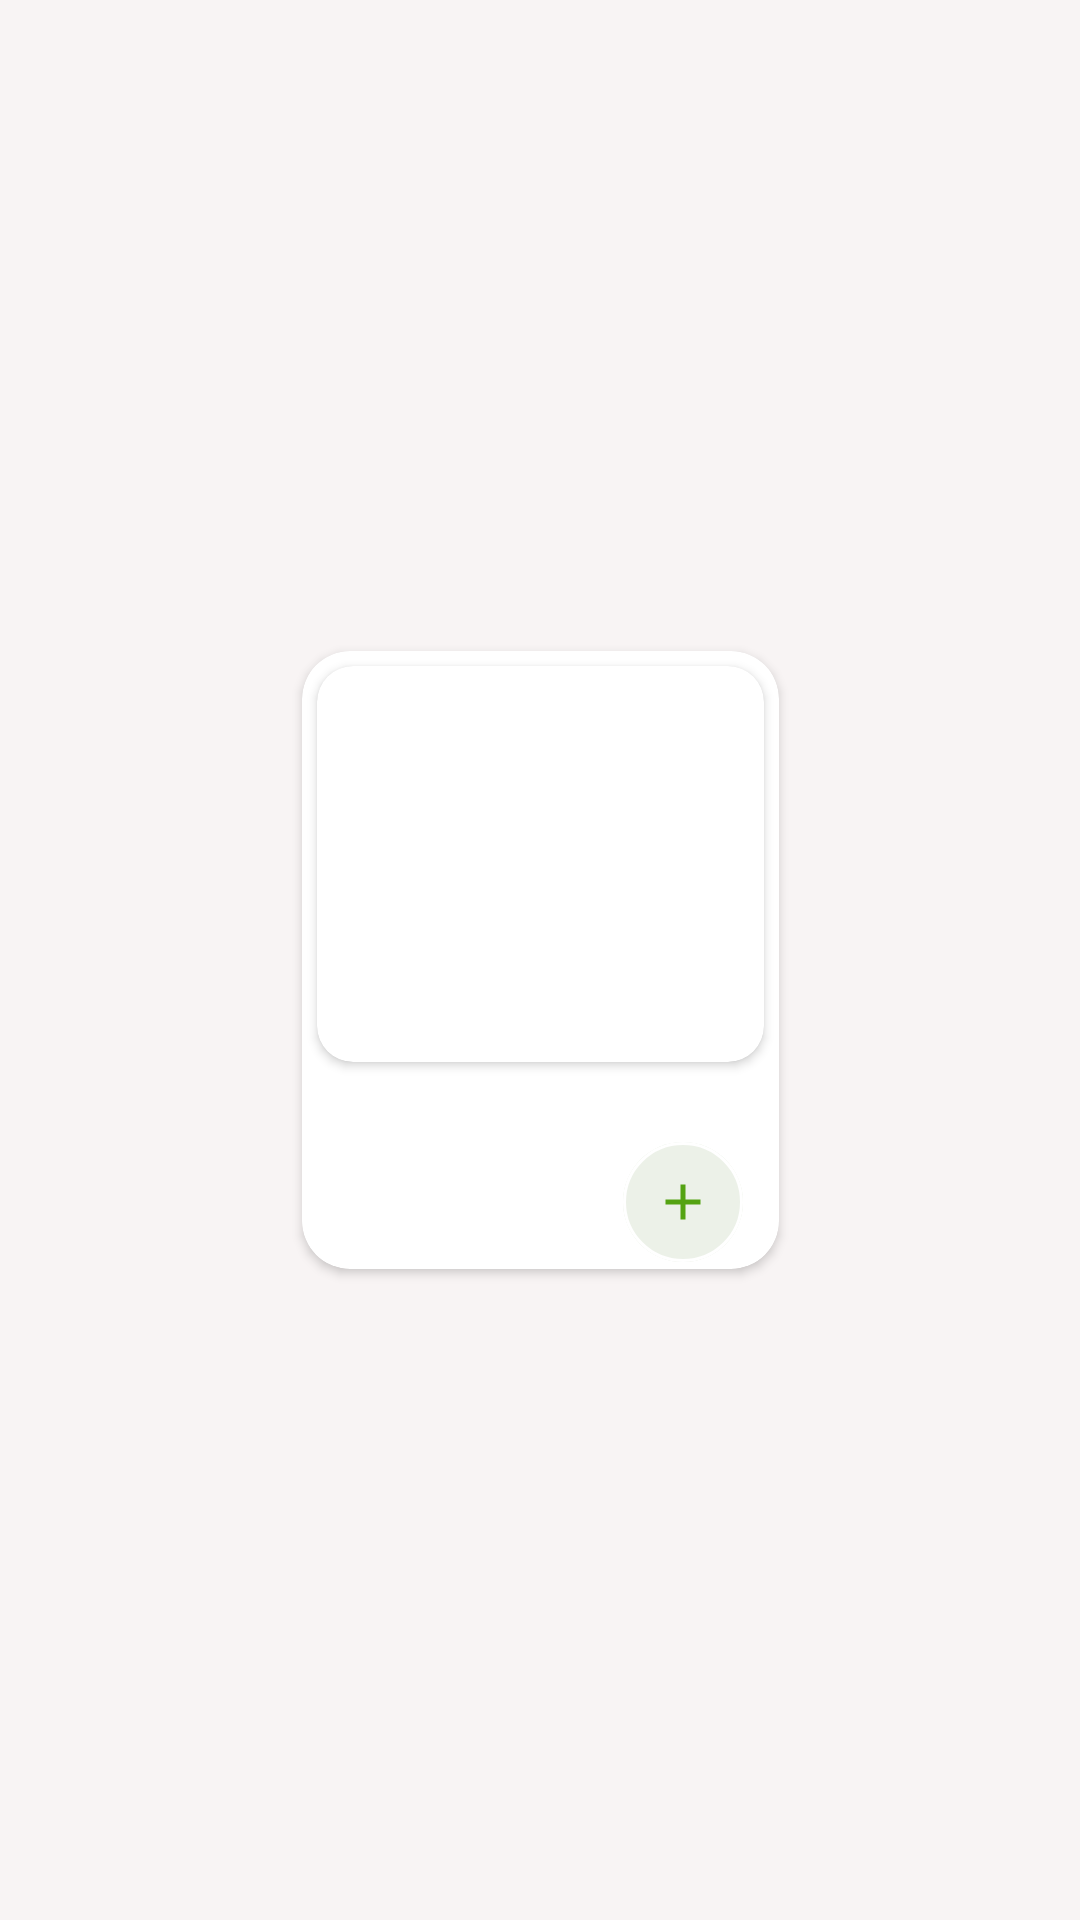

Where icons sit on this 1080 x 1920 app screen, as (x1, y1, x2, y2):
add: (665, 1184, 701, 1220)
